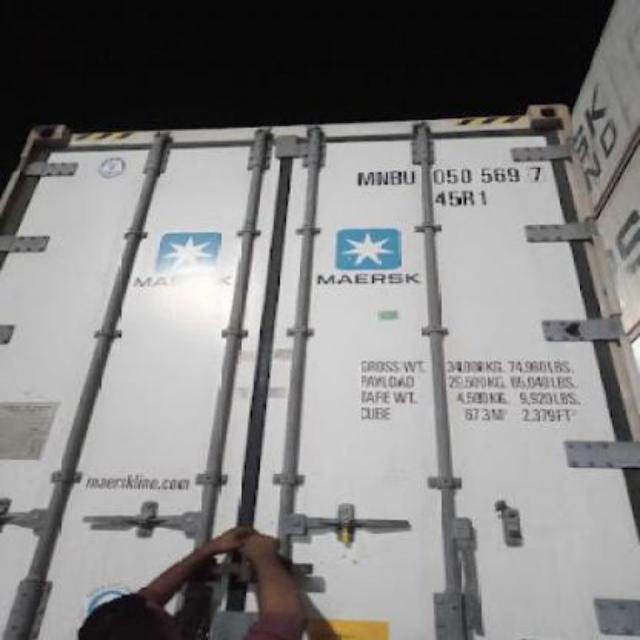0: (432, 162, 446, 188), (461, 164, 474, 186)
5: (481, 162, 494, 188), (446, 162, 458, 182)
6: (494, 160, 508, 190)
7: (528, 164, 544, 182)
9: (510, 162, 520, 186)
B: (392, 160, 402, 188)
M: (356, 169, 376, 187)
N: (378, 169, 392, 187)
U: (402, 166, 418, 188)
